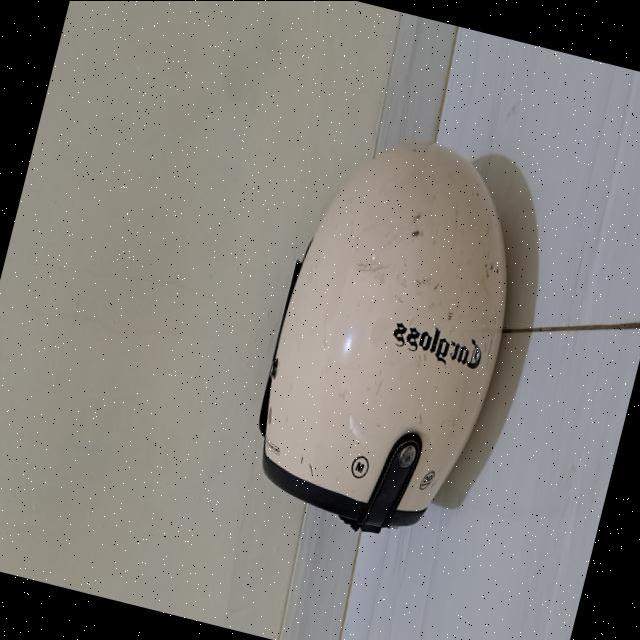Helm: (222, 117, 564, 568)
